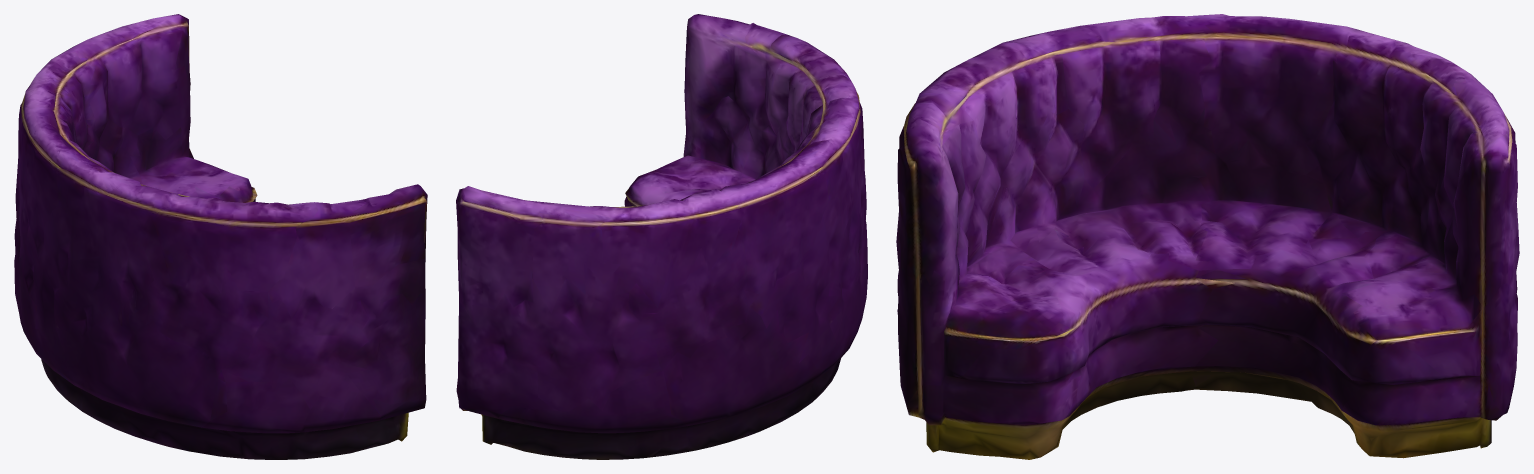
The model's file is booth.glb.
3 views of the same model, side by side, from view 1: azimuth 30°, elevation 25°; view 2: azimuth 150°, elevation 25°; view 3: azimuth 270°, elevation 25° (orthographic). The views are drawn at different scales.
Parts seen in each view (by area): view 1: tripo_node_c1c9f6f2-b666-4005-9dd7-0a781a7f975b; view 2: tripo_node_c1c9f6f2-b666-4005-9dd7-0a781a7f975b; view 3: tripo_node_c1c9f6f2-b666-4005-9dd7-0a781a7f975b.
Part boxes in pixels (<box>): tripo_node_c1c9f6f2-b666-4005-9dd7-0a781a7f975b: <box>14,14,427,459</box>; tripo_node_c1c9f6f2-b666-4005-9dd7-0a781a7f975b: <box>456,14,867,459</box>; tripo_node_c1c9f6f2-b666-4005-9dd7-0a781a7f975b: <box>896,14,1519,459</box>.
Bounding box in the file's own units: 0.6102 × 0.5524 × 1.
1 material, 1 textured.
